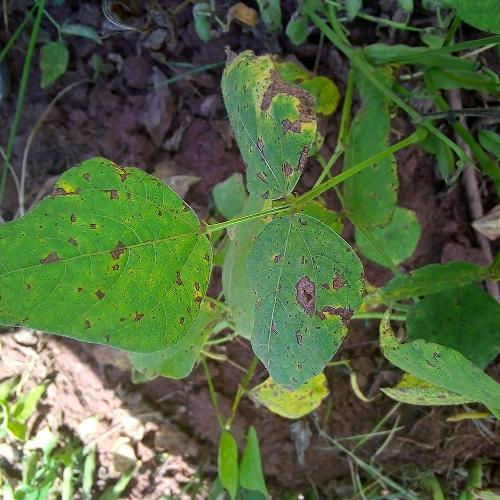hawar: (246, 53, 323, 154), (53, 290, 156, 352), (291, 274, 350, 332), (169, 265, 221, 329), (40, 203, 84, 276), (97, 227, 142, 288), (96, 162, 148, 212), (275, 344, 304, 384)
